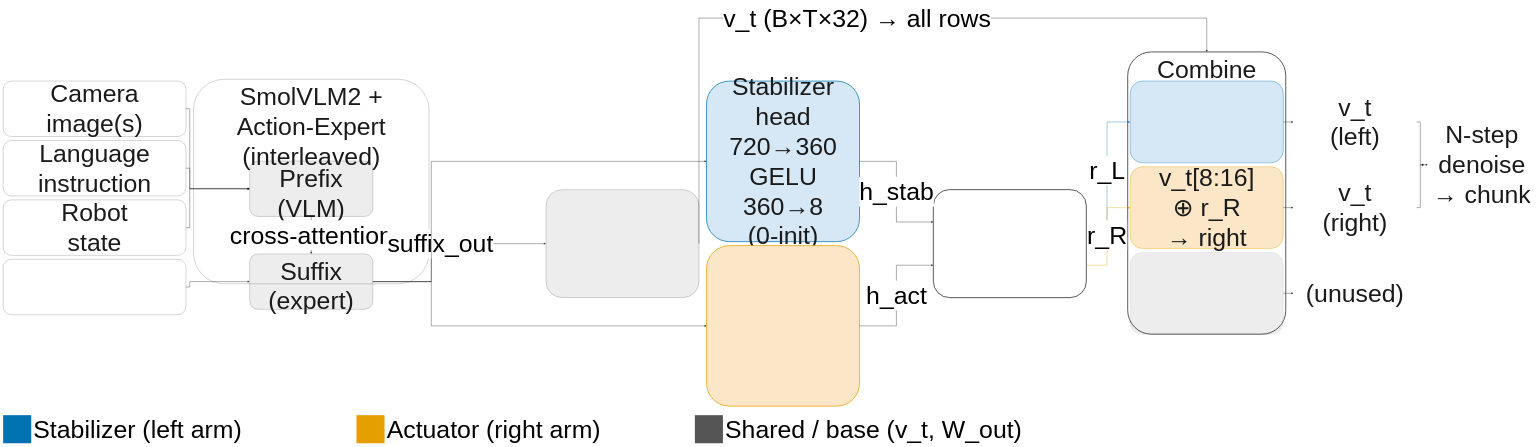
Some shapes in this 1539 by 447 pixel diagram are drawn without their labels. Each missing label, with the centre of its shape:
"Actuator head 720→360 GELU 360→8 (0-init)" belongs at pixel 783 325.
"Noisy action x_t, time t" belongs at pixel 94 287.
"v_t[0:8] ⊕ r_L → left" belongs at pixel 1206 122.
"v_t[16:32] unchanged" belongs at pixel 1206 293.
"W_out Linear 720→32 v_t (base)" belongs at pixel 622 243.
"ρ role→arm (config) left=Stab right=Act" belongs at pixel 1010 243.
